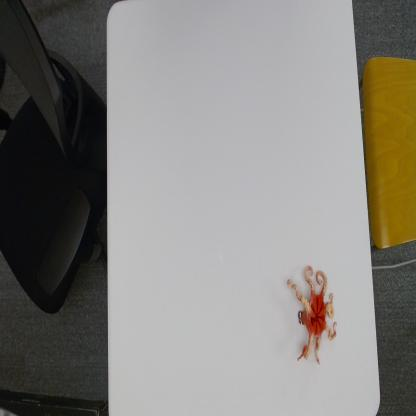Octopus: (286, 263, 338, 367)
